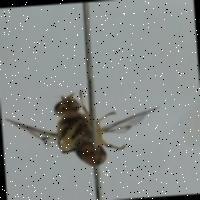Oriental-fruit-fly: (2, 73, 164, 176)
